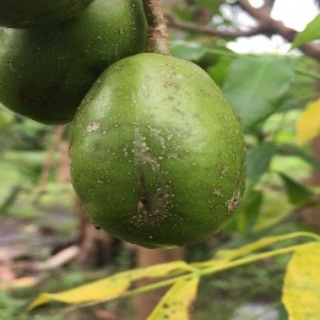coc: (66, 51, 246, 254)
